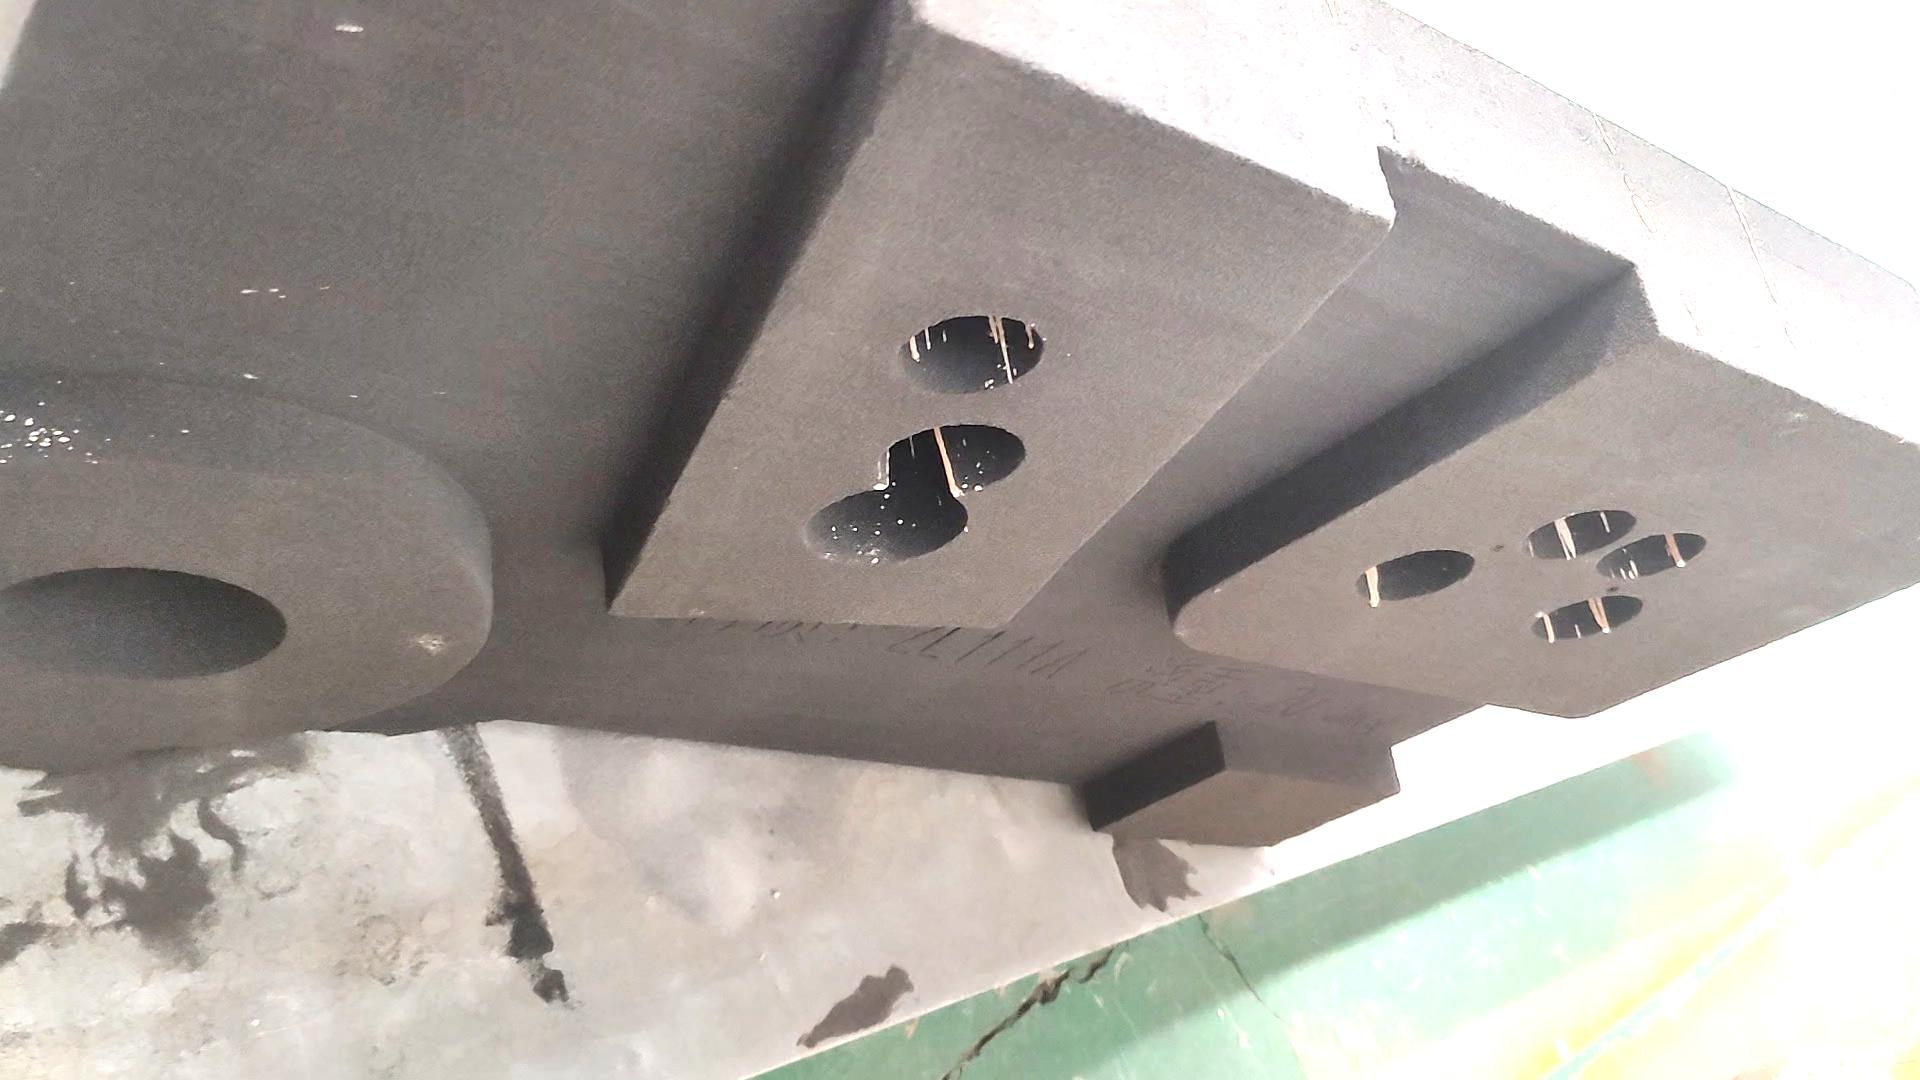pouring hole: (1, 566, 287, 684)
